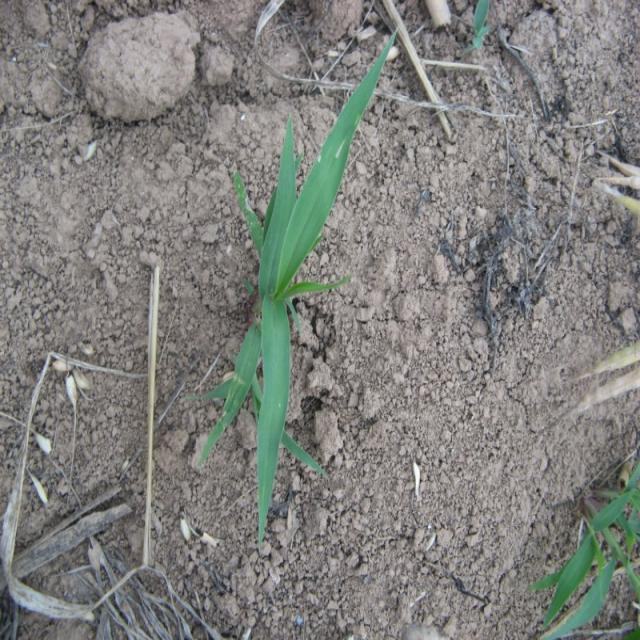bg: (203, 31, 397, 541)
